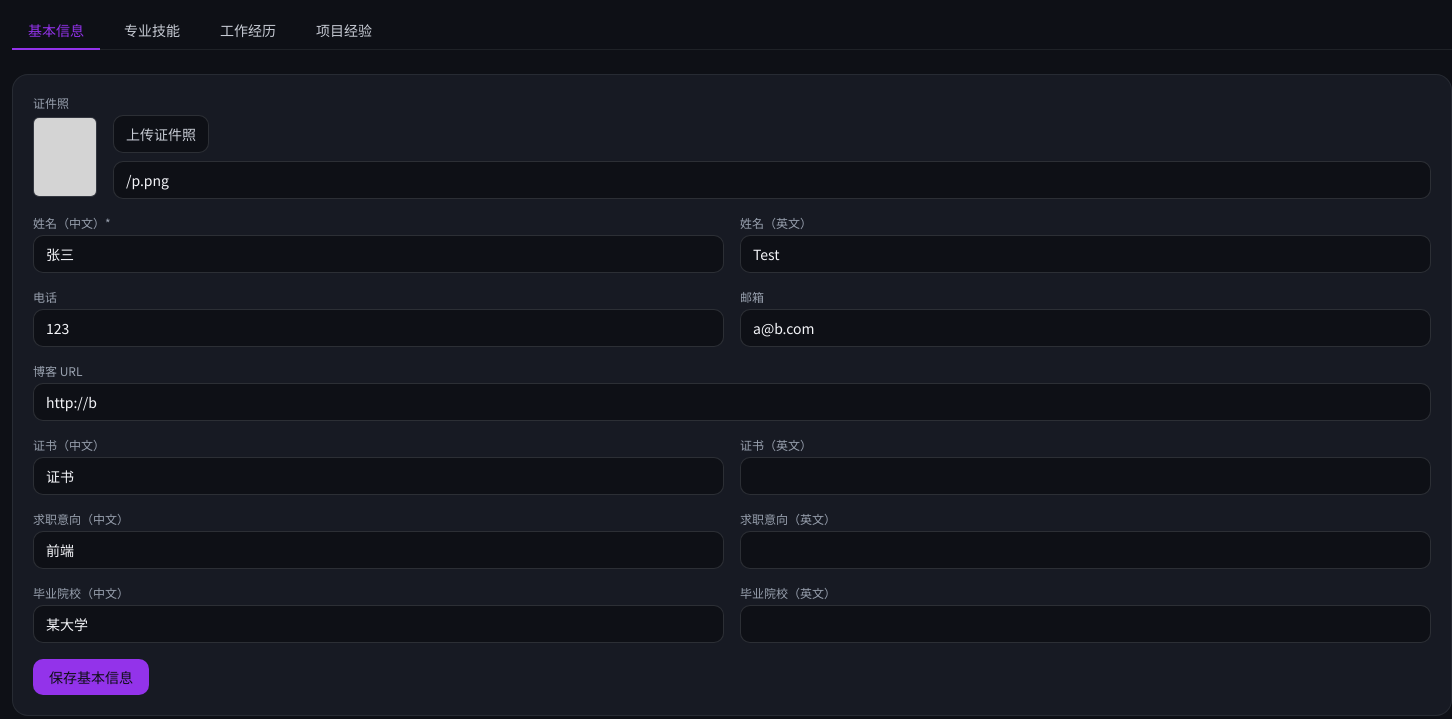
Test: ResumeManager › 新增项目表单在项目简介后提供双语技术栈字段
This screenshot has width=1452, height=719.
Click the button "项目经验" at (344, 31), box [300,12,388,50]
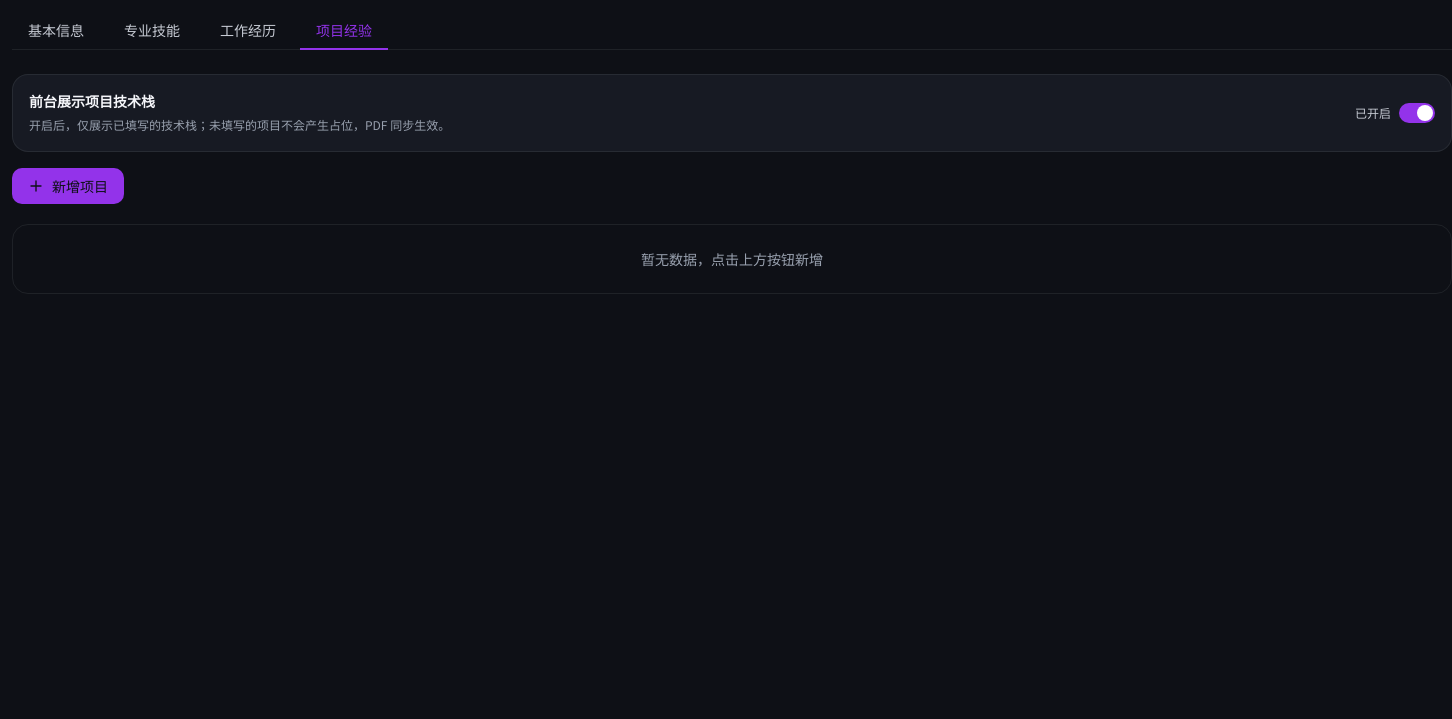
Click the button "新增项目" at (68, 186), box [12,168,124,204]
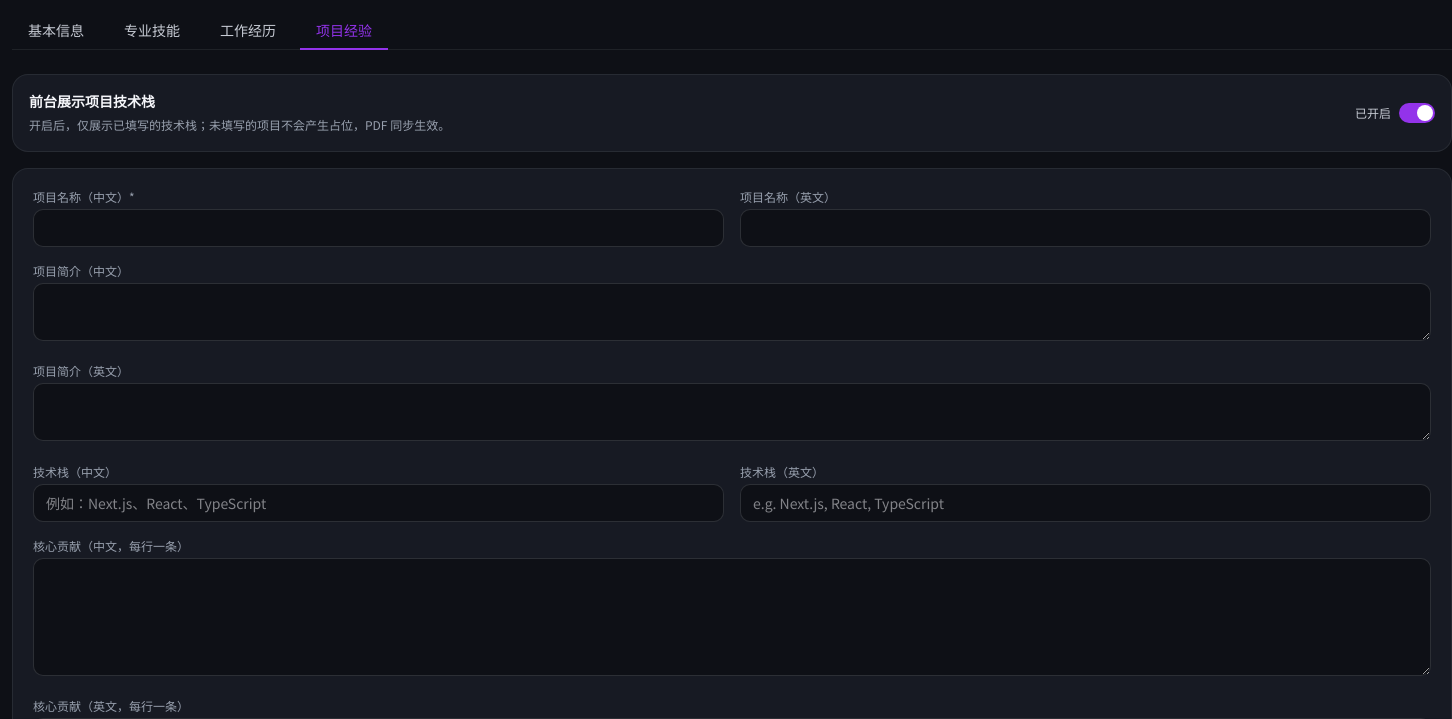
Check: the text "技术栈（中文）" is shown, box [33,463,117,480]
Check: the text "技术栈（英文）" is shown, box [740,463,824,480]
